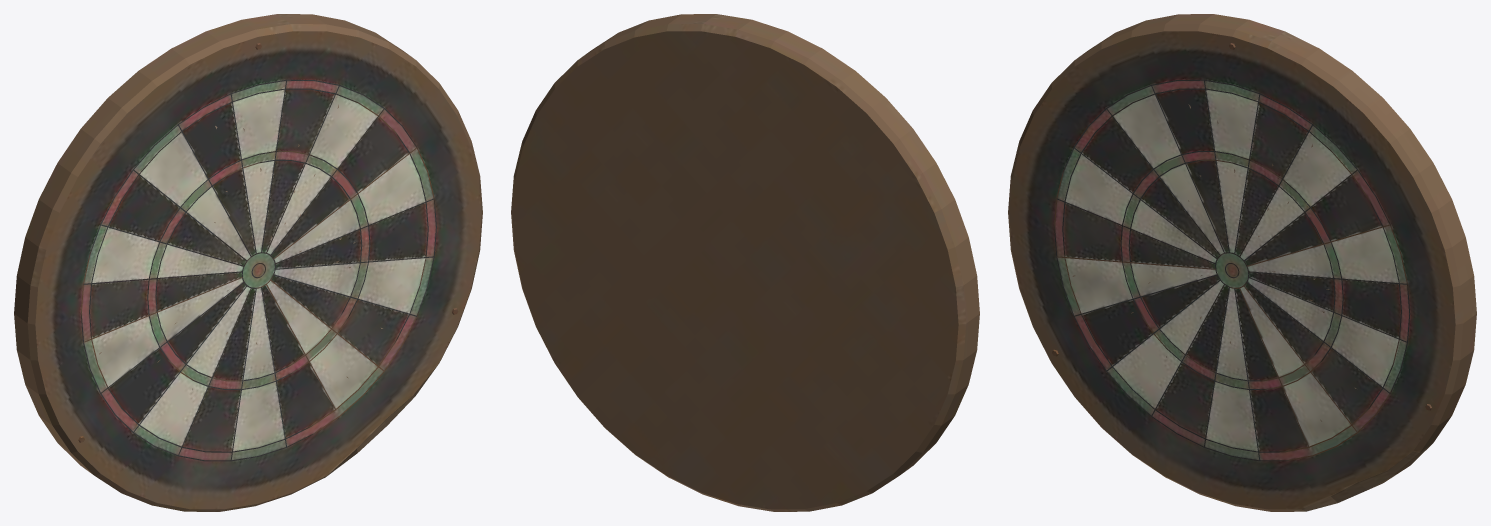
The model's file is SP09_dartboard.glb.
The picture shows the model from 3 angles, left to right: view 1: azimuth 30°, elevation 25°; view 2: azimuth 150°, elevation 25°; view 3: azimuth 330°, elevation 25°; orthographic projection.
Visible parts, largest first — view 1: Dartboard; view 2: Dartboard; view 3: Dartboard.
Boxes of the visible parts, x1,y1,x2,y2 form: Dartboard: (14,14,482,511); Dartboard: (511,14,979,511); Dartboard: (1008,14,1476,511).
Size of the model in its own units: 0.5 by 0.5 by 0.0397.
Materials: 9 (9 with a texture image).
